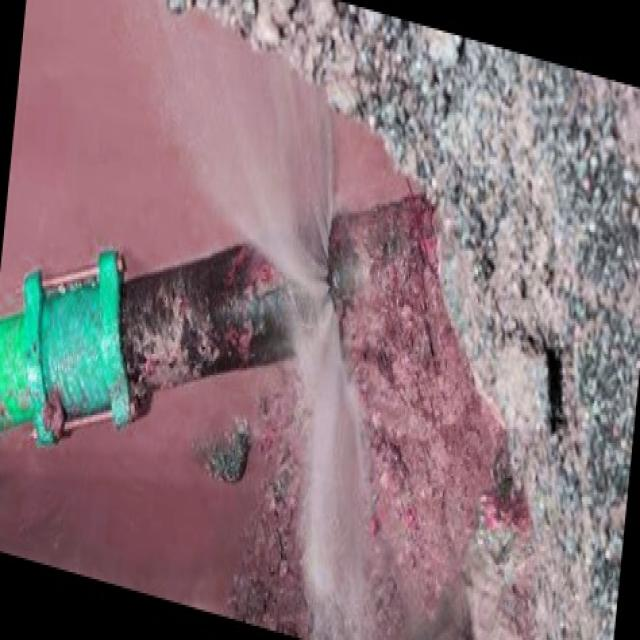Leak: (310, 199, 364, 368)
